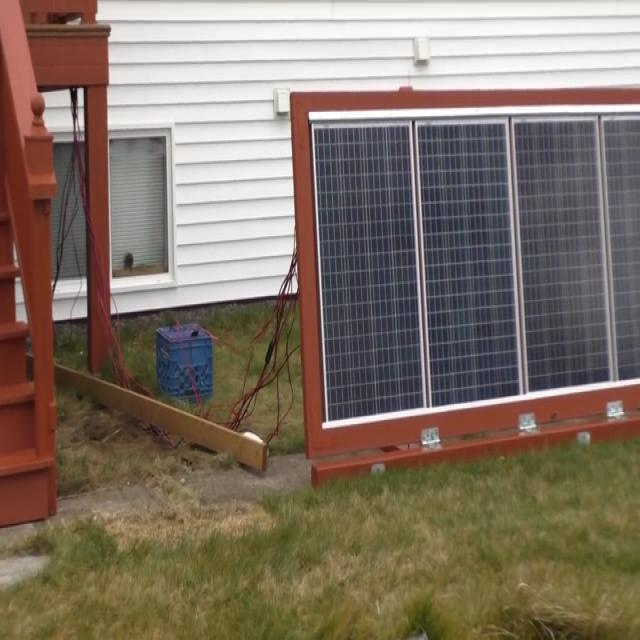Normal Solar Panel: (313, 116, 640, 424), (518, 123, 611, 391), (606, 119, 640, 379)
